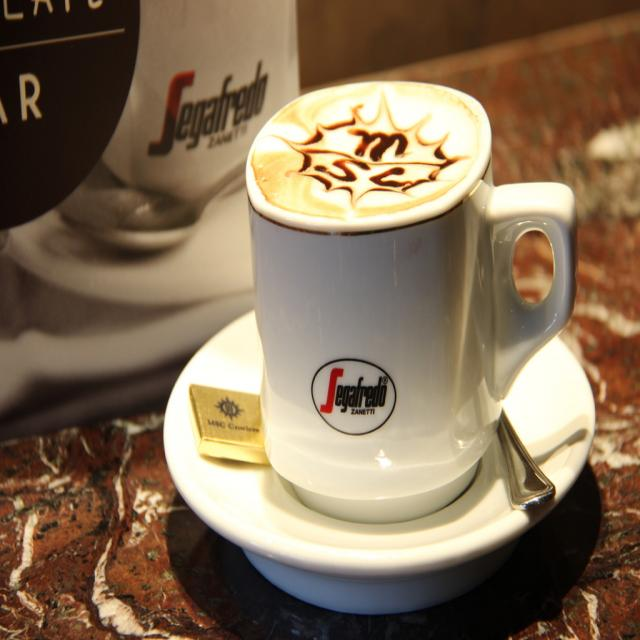latte: (249, 79, 494, 232)
